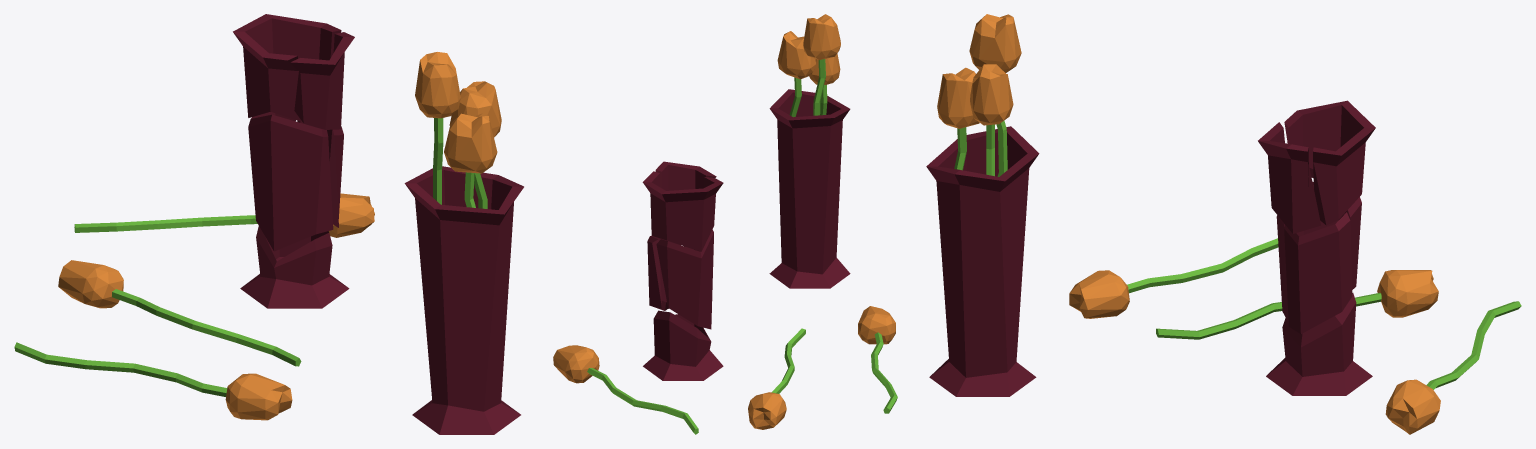
Rendered from JarronFlores.fbx.
3 renders of one model, left to right at view 1: azimuth 30°, elevation 25°; view 2: azimuth 150°, elevation 25°; view 3: azimuth 270°, elevation 25°, orthographic. The views are drawn at different scales.
Parts seen in each view (by area): view 1: Cylinder, Cylinder.009, Cylinder.008, Cylinder.004, Cylinder.007, Cylinder.005, Cylinder.011, Cylinder.002, Cylinder.006, Cylinder.003, Cylinder.001, Cylinder.010; view 2: Cylinder, Cylinder.008, Cylinder.009, Cylinder.004, Cylinder.006, Cylinder.002, Cylinder.007, Cylinder.005, Cylinder.001, Cylinder.011, Cylinder.010, Cylinder.003; view 3: Cylinder, Cylinder.008, Cylinder.010, Cylinder.004, Cylinder.011, Cylinder.005, Cylinder.007, Cylinder.006, Cylinder.002, Cylinder.001, Cylinder.003, Cylinder.009.
Boxes of the visible parts, x1=… form: Cylinder: x1=404, y1=166, x2=523, y2=434; Cylinder.009: x1=248, y1=111, x2=333, y2=251; Cylinder.008: x1=233, y1=14, x2=341, y2=121; Cylinder.004: x1=240, y1=226, x2=349, y2=308; Cylinder.007: x1=14, y1=342, x2=292, y2=420; Cylinder.005: x1=58, y1=260, x2=301, y2=366; Cylinder.011: x1=290, y1=32, x2=354, y2=129; Cylinder.002: x1=415, y1=52, x2=460, y2=204; Cylinder.006: x1=74, y1=193, x2=374, y2=237; Cylinder.003: x1=444, y1=113, x2=497, y2=207; Cylinder.001: x1=449, y1=81, x2=501, y2=208; Cylinder.010: x1=297, y1=120, x2=343, y2=227; Cylinder: x1=769, y1=89, x2=850, y2=288; Cylinder.008: x1=642, y1=171, x2=723, y2=251; Cylinder.009: x1=656, y1=229, x2=713, y2=329; Cylinder.004: x1=643, y1=310, x2=723, y2=380; Cylinder.006: x1=553, y1=345, x2=698, y2=434; Cylinder.002: x1=803, y1=14, x2=840, y2=115; Cylinder.007: x1=858, y1=306, x2=897, y2=413; Cylinder.005: x1=748, y1=328, x2=805, y2=429; Cylinder.001: x1=777, y1=31, x2=815, y2=117; Cylinder.011: x1=655, y1=161, x2=716, y2=190; Cylinder.010: x1=647, y1=235, x2=680, y2=310; Cylinder.003: x1=809, y1=53, x2=840, y2=115; Cylinder: x1=926, y1=126, x2=1039, y2=396; Cylinder.008: x1=1284, y1=100, x2=1375, y2=225; Cylinder.010: x1=1284, y1=212, x2=1352, y2=333; Cylinder.004: x1=1266, y1=293, x2=1372, y2=395; Cylinder.011: x1=1258, y1=122, x2=1321, y2=233; Cylinder.005: x1=1156, y1=270, x2=1438, y2=339; Cylinder.007: x1=1069, y1=238, x2=1278, y2=318; Cylinder.006: x1=1385, y1=301, x2=1521, y2=434; Cylinder.002: x1=969, y1=14, x2=1021, y2=176; Cylinder.001: x1=970, y1=64, x2=1013, y2=176; Cylinder.003: x1=937, y1=67, x2=979, y2=170; Cylinder.009: x1=1276, y1=181, x2=1361, y2=322.
Size of the model in its own units: 85.64 by 74.5 by 111.
